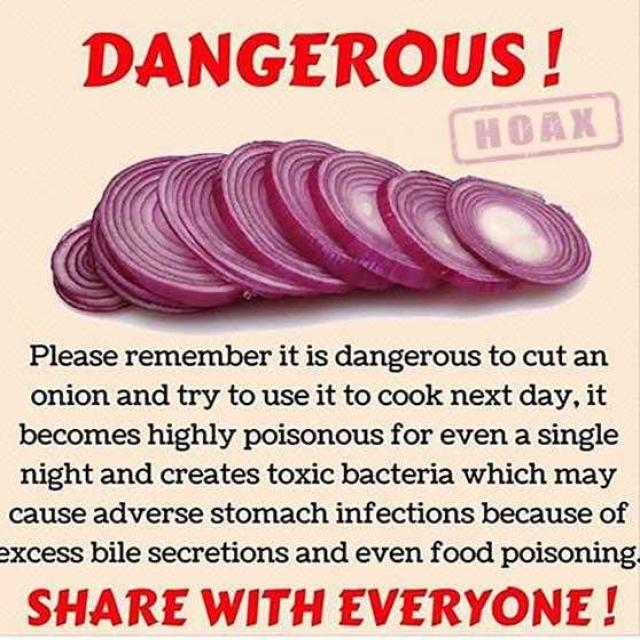onion: (154, 146, 298, 300), (94, 155, 235, 312), (267, 140, 388, 286), (221, 143, 336, 293), (319, 152, 435, 290), (450, 176, 590, 285), (385, 170, 500, 286), (51, 219, 136, 314)
